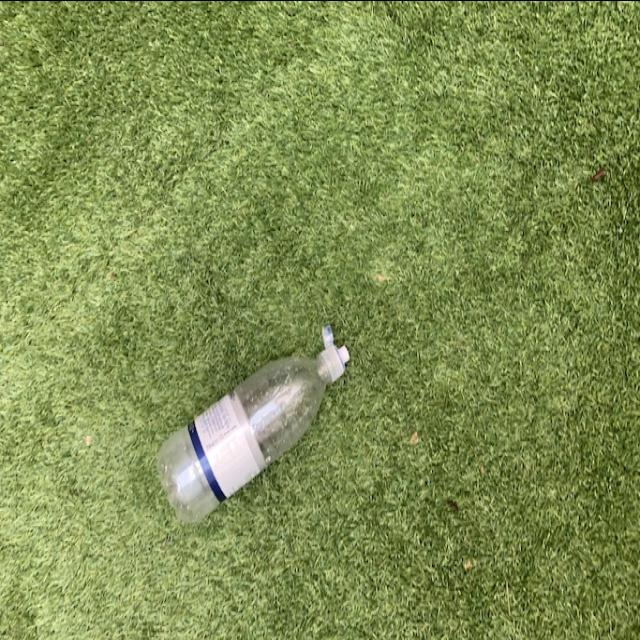PET: (153, 316, 354, 528)
